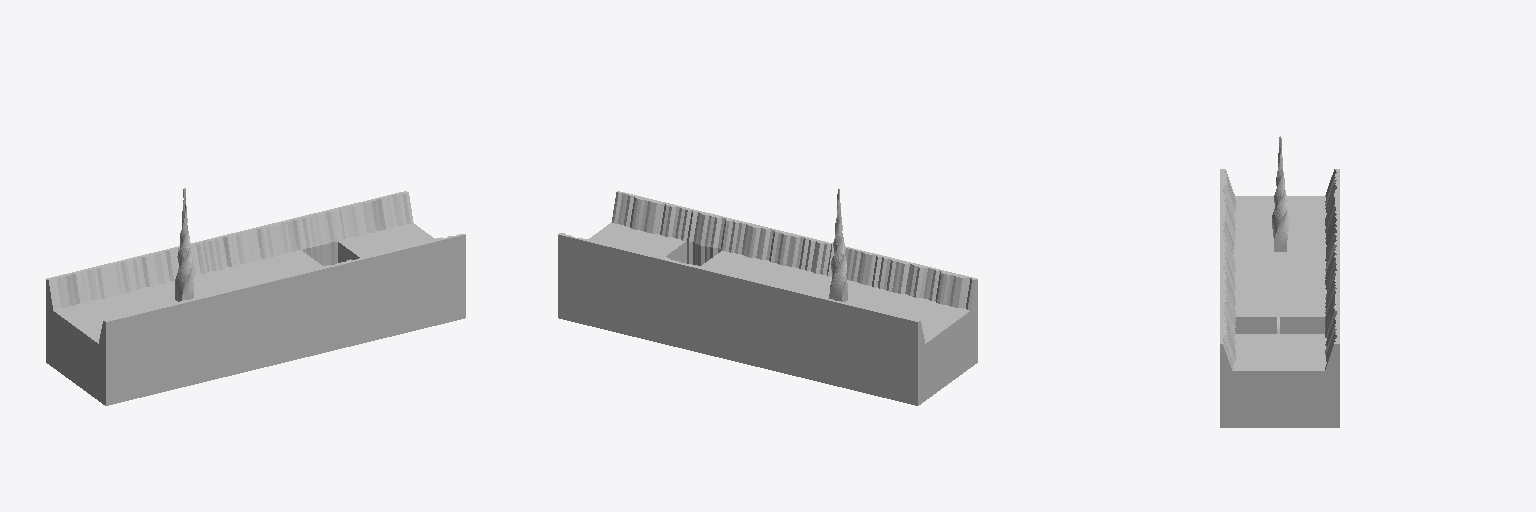
Rendered from rimspire.obj.
3 renders of one model, left to right at view 1: azimuth 30°, elevation 25°; view 2: azimuth 150°, elevation 25°; view 3: azimuth 270°, elevation 25°, orthographic.
Parts seen in each view (by area): view 1: Canyon.Final_Cube; view 2: Canyon.Final_Cube; view 3: Canyon.Final_Cube.
Part boxes in pixels (x1,y1,x2,y2): Canyon.Final_Cube: (46, 188, 465, 405); Canyon.Final_Cube: (558, 189, 977, 405); Canyon.Final_Cube: (1220, 136, 1339, 427).
Bounding box in the file's own units: 23.56 × 10.56 × 6.75.